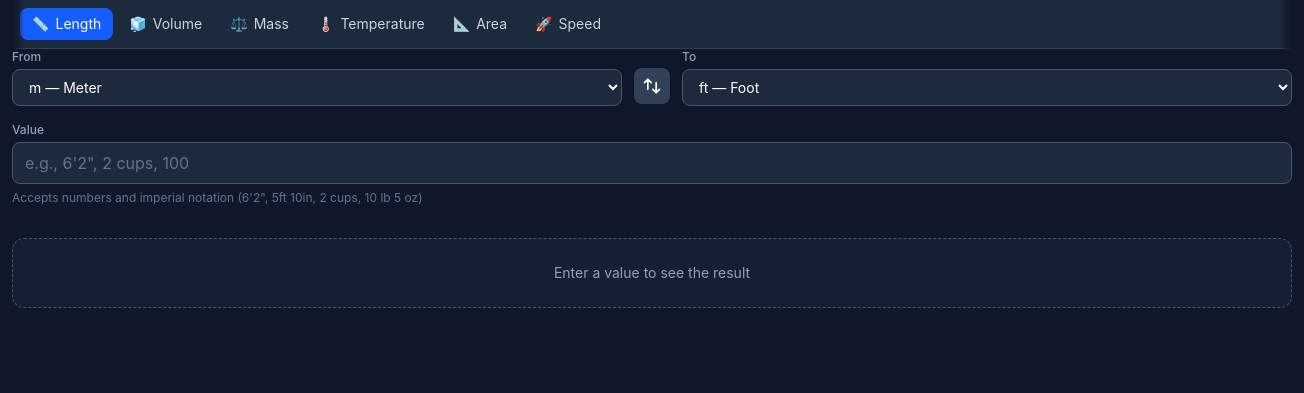
ConverterForm › types a value and sees the result
Type "1" into the field with placeholder "e.g., 6'2\", 2 cups, 100" at (652, 163), box x1=12 y1=142 x2=1292 y2=184
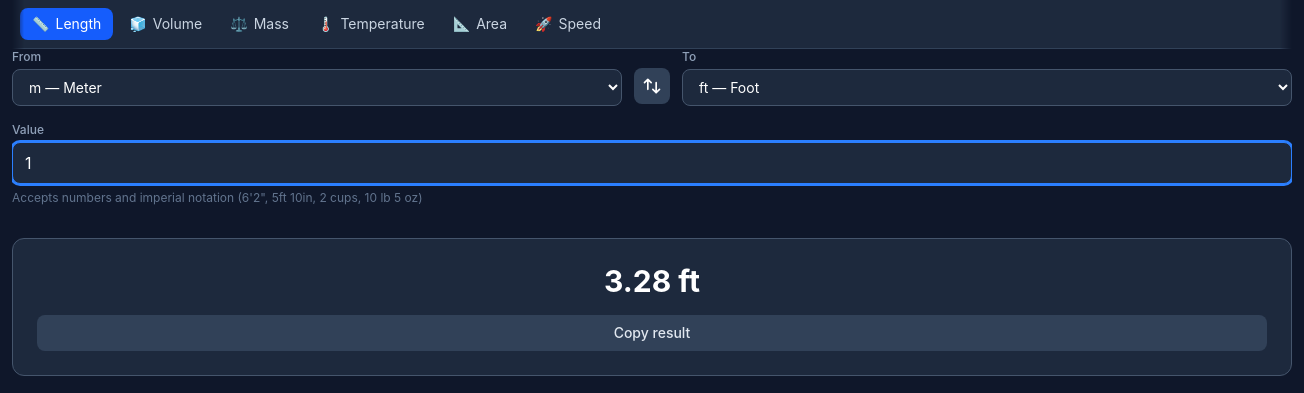
Expected: the text "3.28 ft" is shown, x1=604 y1=263 x2=700 y2=299
